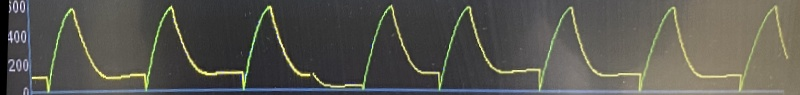leakage: (38, 0, 783, 95)
